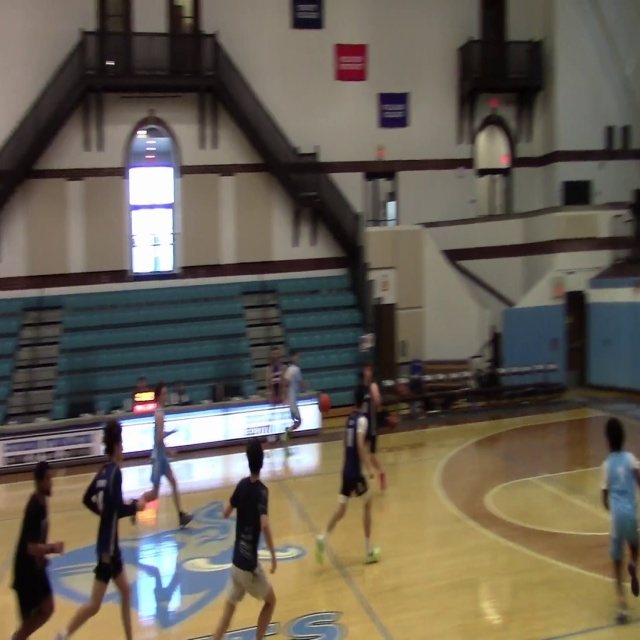Basketball: (318, 393, 330, 413)
